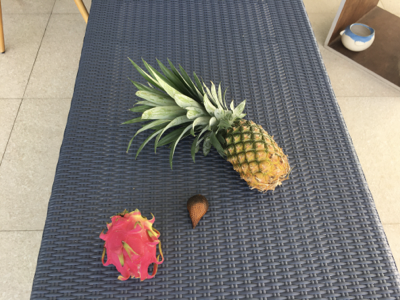dragon fruit: (101, 209, 165, 283)
pineapple: (123, 56, 291, 191)
snake fruit: (189, 194, 209, 228)
